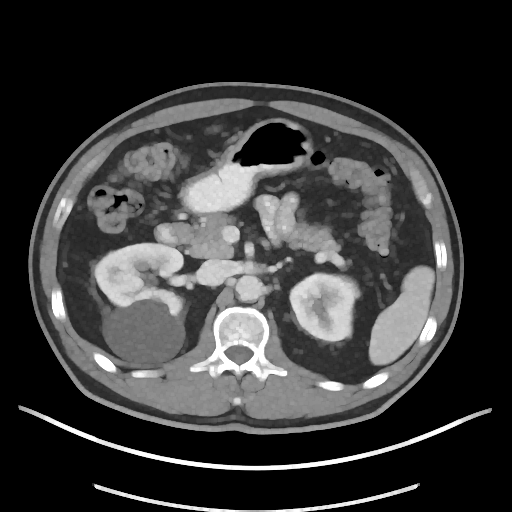Lesion: (95, 291, 188, 366)
